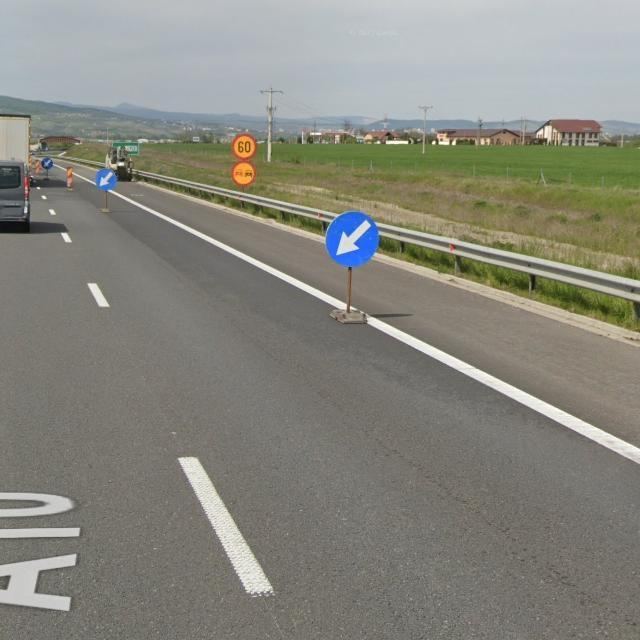forb_overtake: (232, 161, 257, 187)
forb_speed_over_60: (232, 134, 257, 161)
